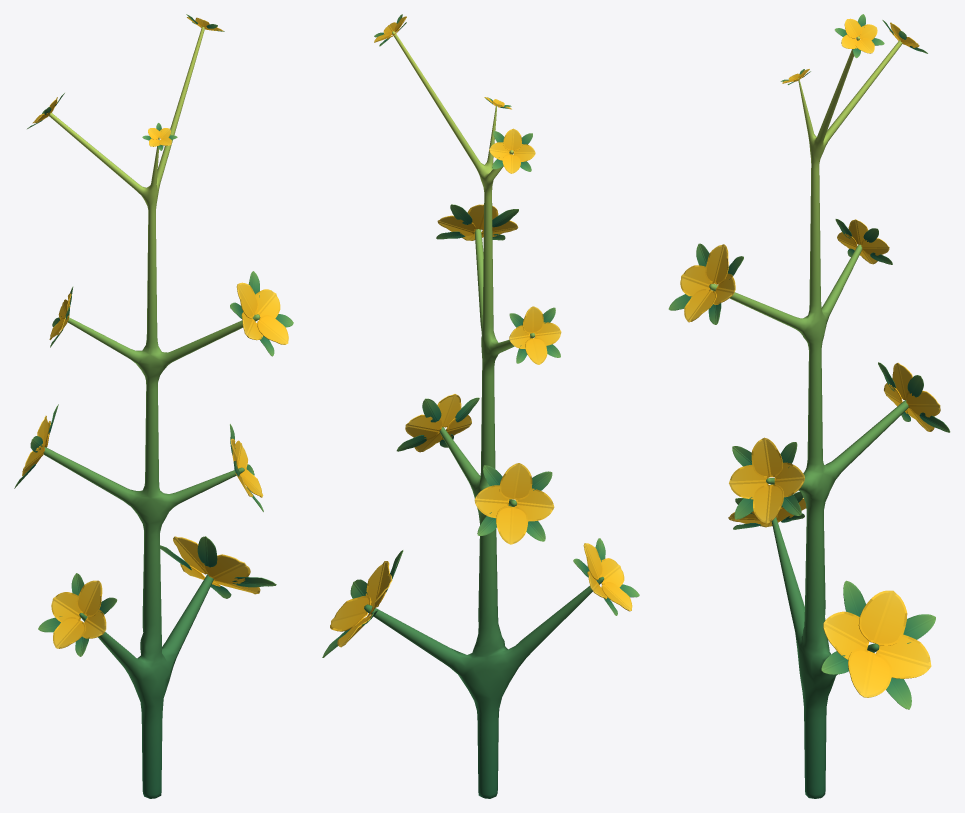
The model's file is YellowPlant.fbx.
The picture shows the model from 3 angles, left to right: view 1: azimuth 30°, elevation 25°; view 2: azimuth 150°, elevation 25°; view 3: azimuth 270°, elevation 25°; orthographic projection. The views are drawn at different scales.
Visible parts, largest first — view 1: YellowPlant; view 2: YellowPlant; view 3: YellowPlant.
Part boxes in pixels (box(x1,y1,x2,y2)): YellowPlant: box(14, 14, 293, 798); YellowPlant: box(322, 14, 639, 798); YellowPlant: box(668, 14, 950, 798).
Bounding box in the file's own units: 0.2148 × 0.6209 × 0.1954.
